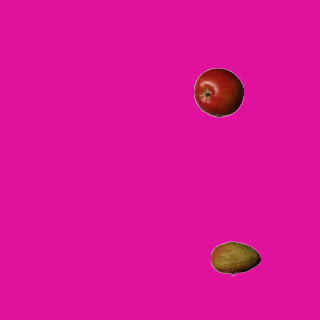Apple Braeburn: (193, 67, 243, 117)
Papaya: (210, 233, 260, 283)
